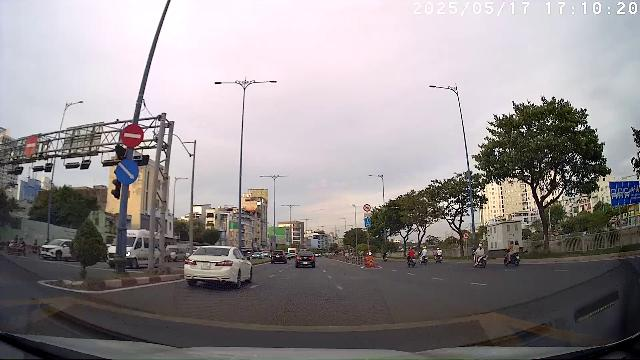102-cam-di-nguoc-chieu: (120, 124, 144, 148), (24, 134, 37, 157)
103a-cam-oto: (463, 232, 470, 239)
302a-huong-phai-di-vong-chuong-ngai-vat-1: (115, 159, 139, 185)
